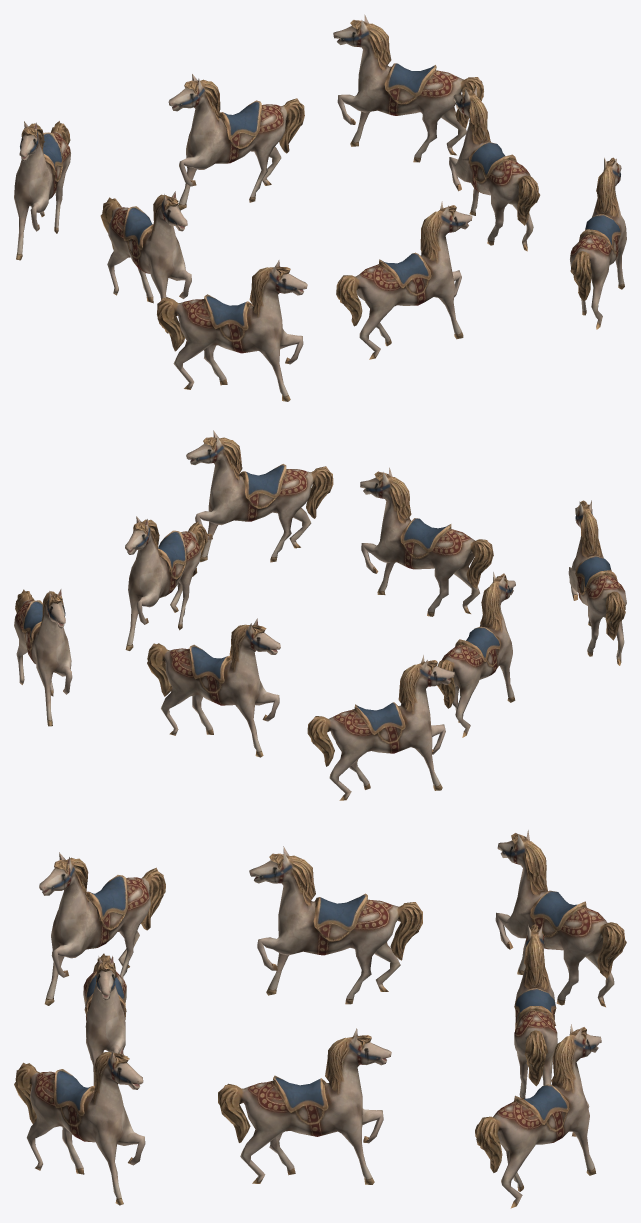
The model's file is caballoprimario.obj.
The picture shows the model from 3 angles, top to bottom: view 1: azimuth 30°, elevation 25°; view 2: azimuth 150°, elevation 25°; view 3: azimuth 270°, elevation 25°; orthographic projection. The views are drawn at different scales.
Visible parts, largest first — view 1: obj2; view 2: obj2; view 3: obj2.
Part boxes in pixels (left/top/right/bottom): obj2: left=14, top=14, right=626, bottom=401; obj2: left=14, top=430, right=626, bottom=800; obj2: left=14, top=830, right=626, bottom=1208.
Bounding box in the file's own units: 2.74 × 0.7366 × 2.74.
